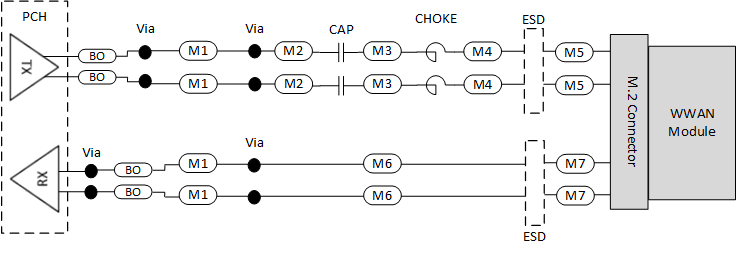capacitor: (335, 37, 349, 67), (333, 68, 347, 98)
choke: (420, 40, 450, 63), (420, 72, 450, 95)
circle: (242, 40, 264, 63), (242, 71, 264, 94), (244, 151, 266, 174), (243, 184, 265, 207), (79, 183, 101, 206), (80, 160, 100, 180), (137, 70, 155, 91), (137, 43, 154, 61)
dotted_rectangle: (1, 1, 74, 238), (520, 25, 548, 120), (521, 133, 549, 228)
oval: (175, 39, 220, 62), (175, 71, 220, 94), (269, 39, 314, 62), (269, 72, 314, 95), (359, 39, 404, 62), (359, 72, 404, 95), (460, 40, 505, 63), (459, 72, 504, 95), (552, 40, 597, 63), (552, 74, 597, 97), (554, 152, 599, 175), (554, 183, 599, 206), (360, 184, 405, 207), (360, 152, 405, 175), (176, 151, 221, 174), (177, 183, 222, 206), (113, 181, 158, 204), (109, 156, 154, 179), (76, 48, 119, 64), (75, 69, 118, 85)
rectangle: (647, 26, 737, 213), (603, 25, 652, 216)
triangle: (6, 25, 62, 110), (7, 142, 62, 216)
